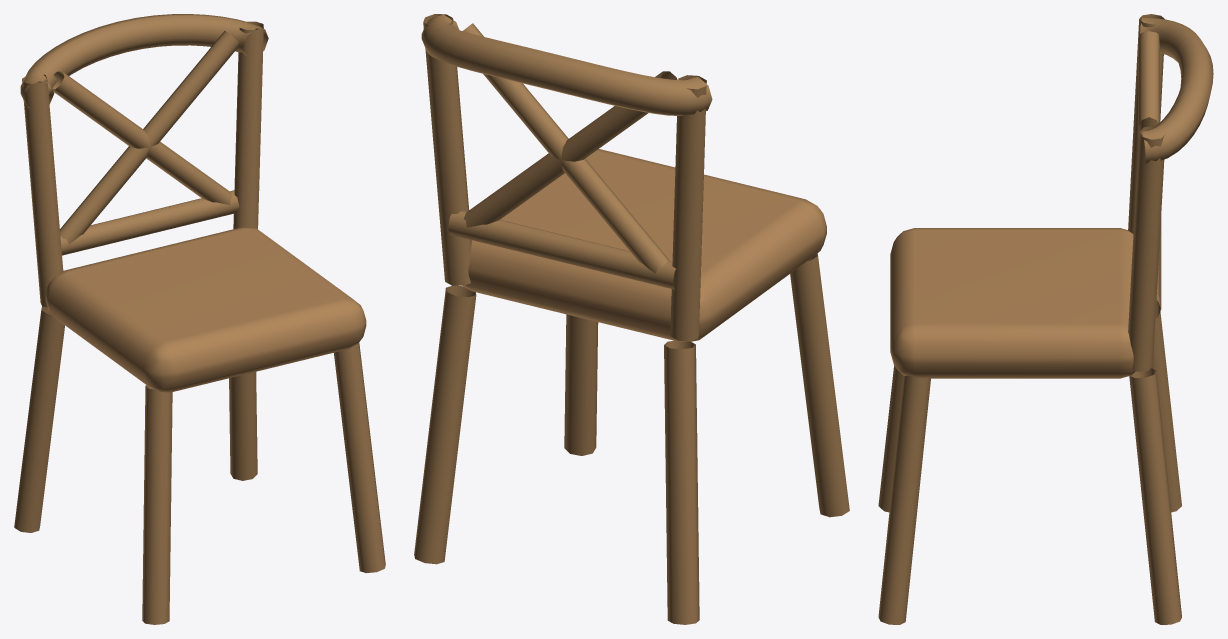
Rendered from wh-wooden-chair.glb.
3 views of the same model, side by side, from view 1: azimuth 30°, elevation 25°; view 2: azimuth 150°, elevation 25°; view 3: azimuth 270°, elevation 25° (orthographic). The views are drawn at different scales.
Visible parts, largest first — view 1: Chair leg.080, Upholstered seat.024; view 2: Chair leg.080, Upholstered seat.024; view 3: Upholstered seat.024, Chair leg.080.
Boxes of the visible parts, x1=… form: Chair leg.080: x1=14, y1=14, x2=385, y2=624; Upholstered seat.024: x1=45, y1=227, x2=366, y2=392; Chair leg.080: x1=414, y1=14, x2=849, y2=624; Upholstered seat.024: x1=463, y1=149, x2=826, y2=342; Upholstered seat.024: x1=890, y1=228, x2=1135, y2=378; Chair leg.080: x1=878, y1=14, x2=1213, y2=624.
Size of the model in its own units: 0.48 by 0.88 by 0.53.
